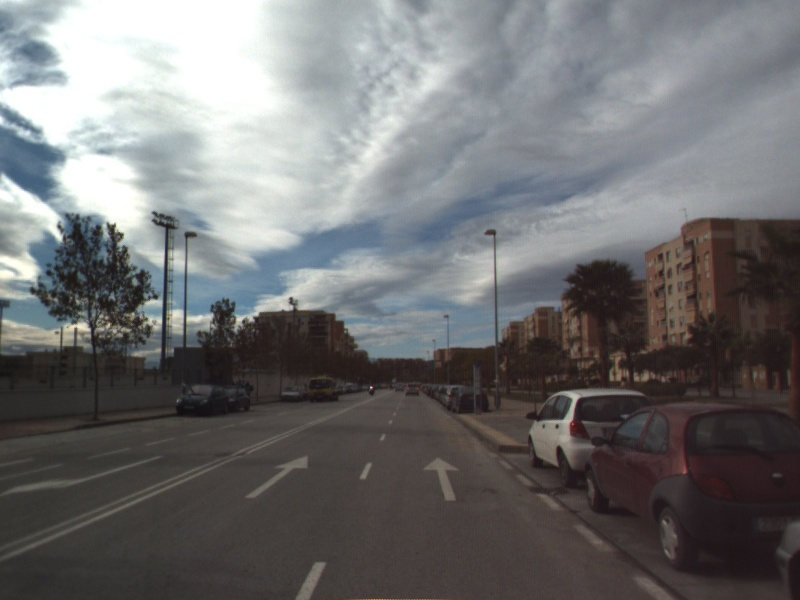STRAIGHT: (243, 454, 309, 500), (420, 455, 462, 503)
